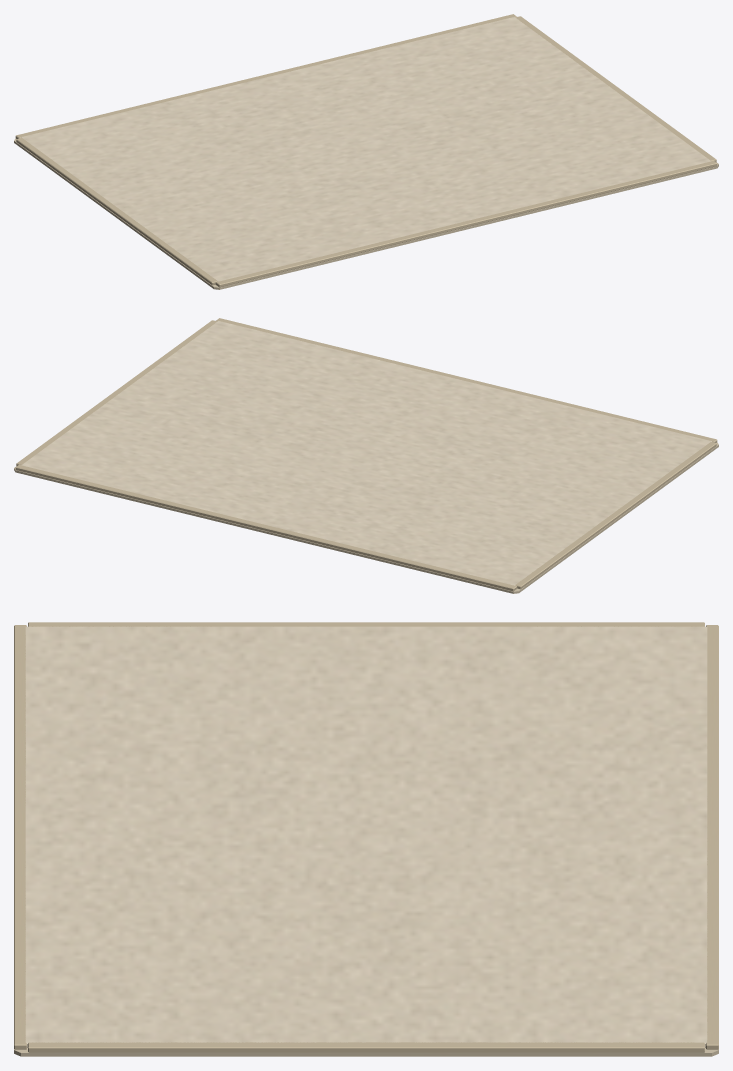
File: rug.glb
3 renders of one model, top to bottom at view 1: azimuth 30°, elevation 25°; view 2: azimuth 150°, elevation 25°; view 3: azimuth 270°, elevation 25°, orthographic. The views are drawn at different scales.
Parts seen in each view (by area): view 1: home_rug; view 2: home_rug; view 3: home_rug.
Boxes of the visible parts, left/top/right/bottom form: home_rug: left=14, top=14, right=718, bottom=289; home_rug: left=14, top=318, right=718, bottom=593; home_rug: left=14, top=622, right=718, bottom=1056.
Bounding box in the file's own units: 2 × 0.02 × 1.4.
Materials: 1 (1 with a texture image).
